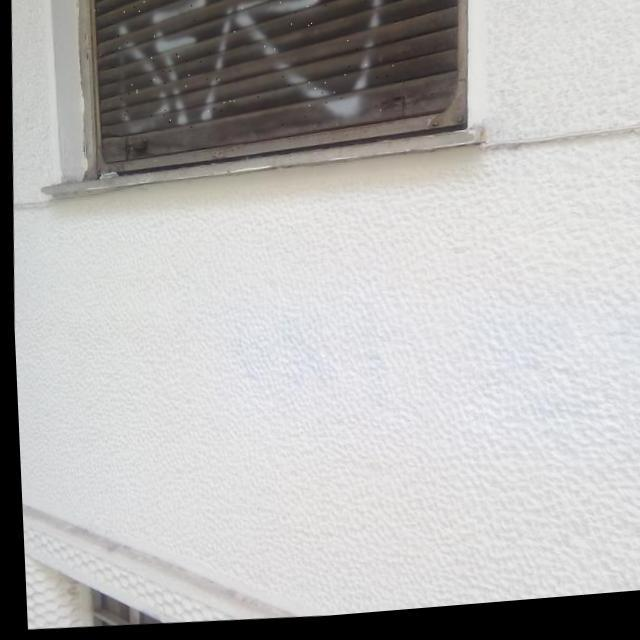-: (109, 0, 398, 144)
